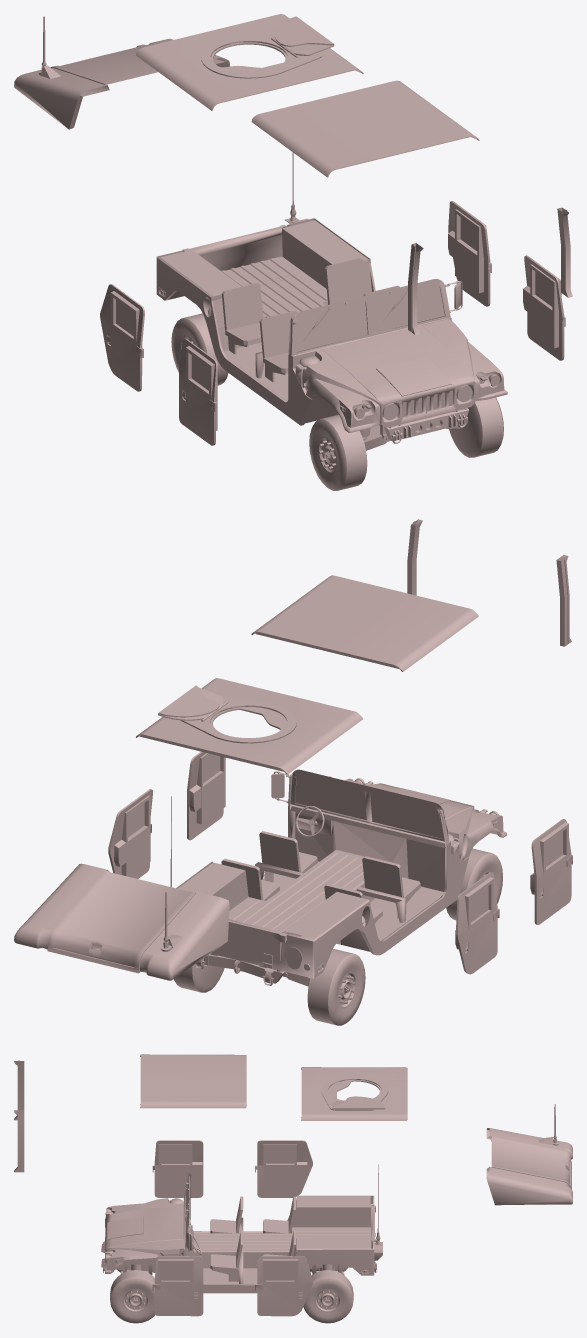
Rendered from hmmwv_2022.fbx.
The picture shows the model from 3 angles, top to bottom: view 1: azimuth 30°, elevation 25°; view 2: azimuth 150°, elevation 25°; view 3: azimuth 270°, elevation 25°; orthographic projection. The views are drawn at different scales.
Visible parts, largest first — view 1: hmmwv_2022, roof_solid, roof_hatch, hardback, door_rearright, door_frontright, door_rearleft, door_frontleft, center_column; view 2: hmmwv_2022, hardback, roof_solid, roof_hatch, door_rearright, door_frontright, door_rearleft, door_frontleft, center_column; view 3: hmmwv_2022, hardback, roof_solid, roof_hatch, door_rearleft, door_frontleft, door_rearright, door_frontright, center_column.
Part boxes in pixels (<box>): hmmwv_2022: <box>156,152,507,490</box>; roof_solid: <box>251,80,479,177</box>; roof_hatch: <box>136,14,363,110</box>; hardback: <box>14,16,229,129</box>; door_rearright: <box>100,284,144,391</box>; door_frontright: <box>179,338,217,445</box>; door_rearleft: <box>448,201,491,306</box>; door_frontleft: <box>523,255,565,360</box>; center_column: <box>408,207,572,334</box>; hmmwv_2022: <box>170,769,506,1025</box>; hardback: <box>14,863,229,980</box>; roof_solid: <box>251,575,478,671</box>; roof_hatch: <box>136,678,362,774</box>; door_rearright: <box>455,872,499,974</box>; door_frontright: <box>530,819,572,924</box>; door_rearleft: <box>108,789,152,878</box>; door_frontleft: <box>187,751,225,840</box>; center_column: <box>407,519,571,646</box>; hmmwv_2022: <box>101,1164,382,1323</box>; hardback: <box>486,1104,572,1205</box>; roof_solid: <box>140,1054,246,1108</box>; roof_hatch: <box>301,1067,407,1120</box>; door_rearleft: <box>255,1256,312,1316</box>; door_frontleft: <box>152,1256,203,1316</box>; door_rearright: <box>255,1140,312,1197</box>; door_frontright: <box>152,1140,203,1197</box>; center_column: <box>14,1060,24,1172</box>.
Bounding box in the file's own units: 22160 × 18965 × 43910.
